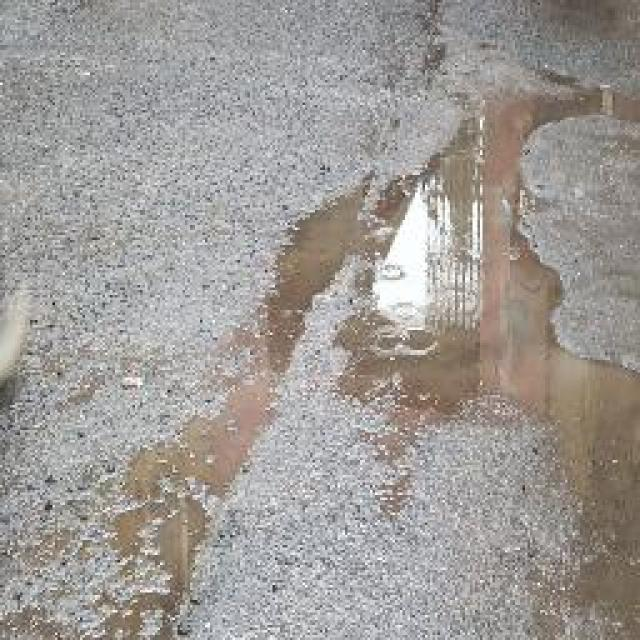stagnation: (277, 70, 640, 453)
